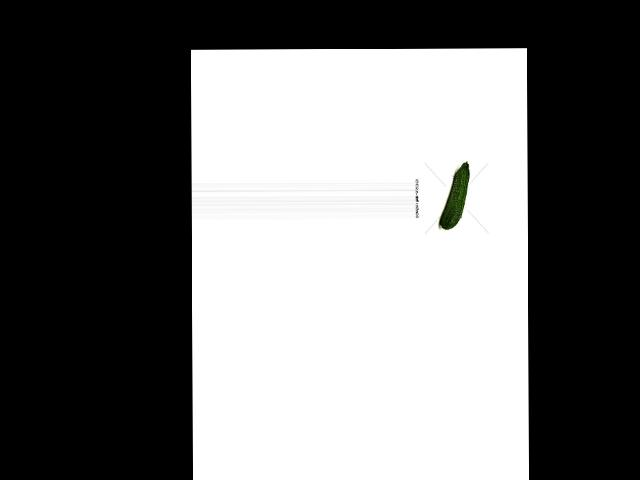cucumber: (439, 161, 469, 228)
